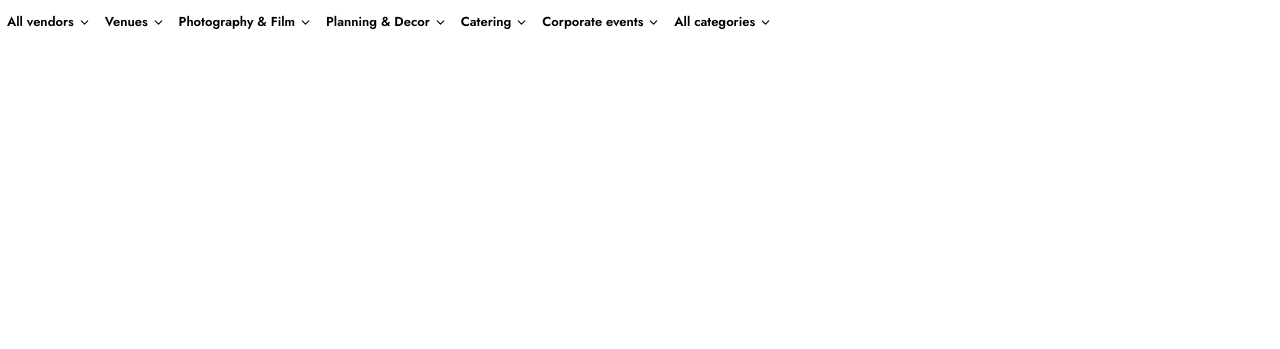
Scenario: HeaderNav › opens a panel for the keyboard as well as the pointer
Step 1. Focus the link "Catering" → (495, 22), box [461,12,528,31]
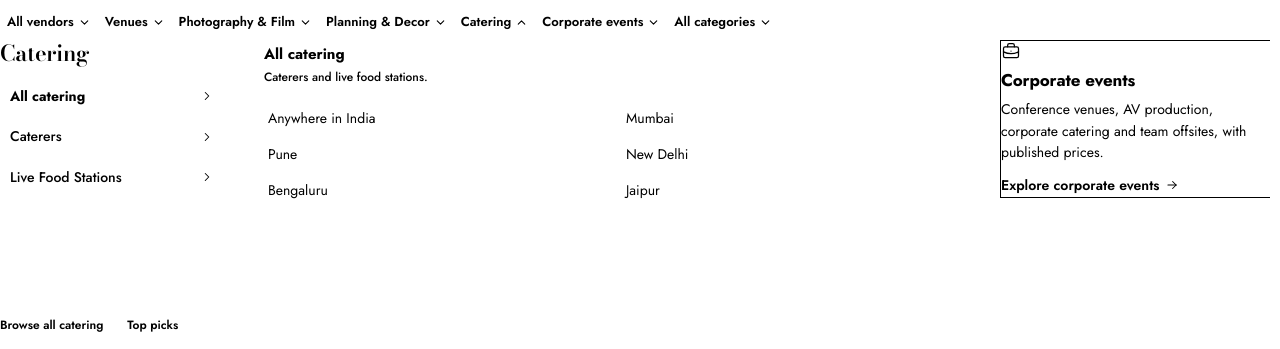
Now the text "Live Food Stations" is shown, box [10,166,122,188]
